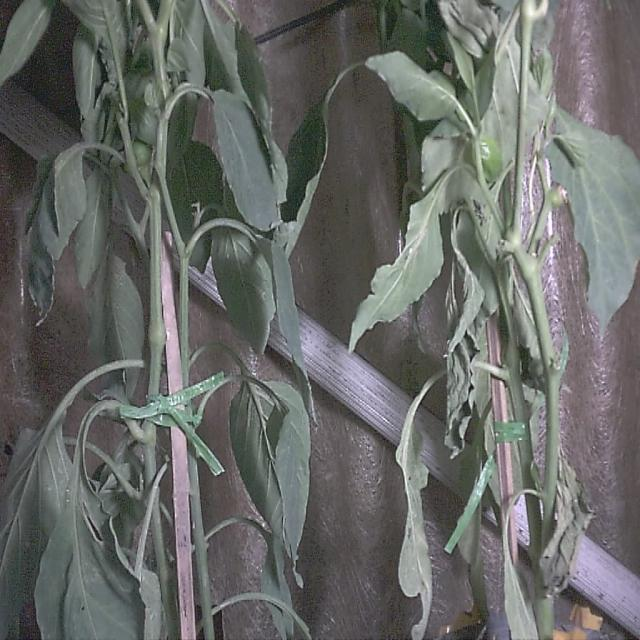Leaf: (546, 110, 639, 334), (349, 177, 446, 350), (396, 380, 432, 639), (214, 90, 279, 229), (212, 228, 275, 353), (540, 455, 593, 594), (366, 52, 459, 120), (0, 0, 55, 86), (75, 168, 111, 288)
